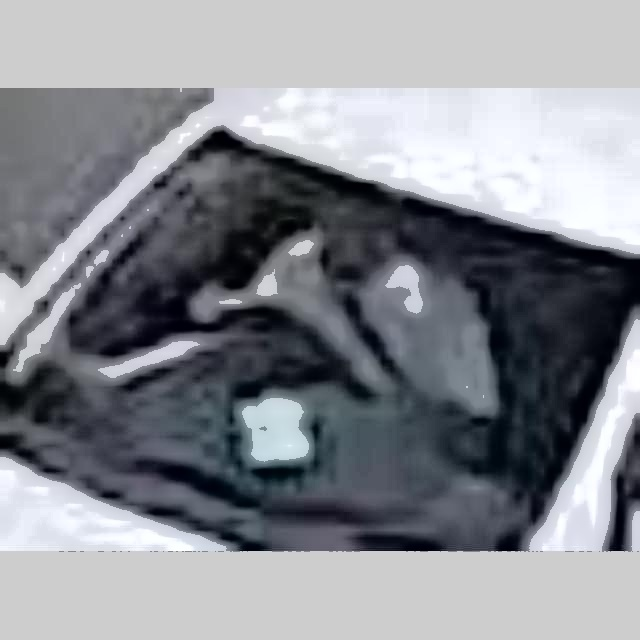pakai: (194, 189, 497, 425)
